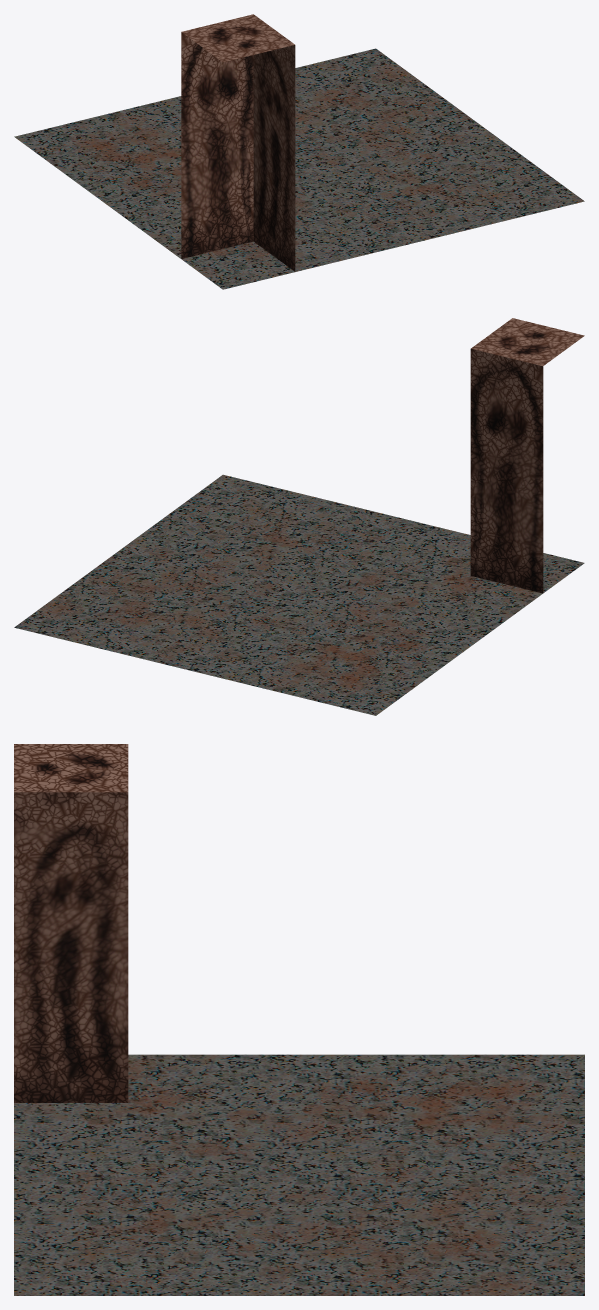
Rendered from Edge_Wall.fbx.
3 views of the same model, one above another, from view 1: azimuth 30°, elevation 25°; view 2: azimuth 150°, elevation 25°; view 3: azimuth 270°, elevation 25° (orthographic). The views are drawn at different scales.
Parts seen in each view (by area): view 1: Edge_Wall; view 2: Edge_Wall; view 3: Edge_Wall.
Boxes of the visible parts, x1,y1,x2,y2 form: Edge_Wall: (14, 14, 584, 289); Edge_Wall: (14, 318, 584, 715); Edge_Wall: (14, 744, 584, 1295).
Bounding box in the file's own units: 100 × 60 × 100.
1 material, 1 textured.
